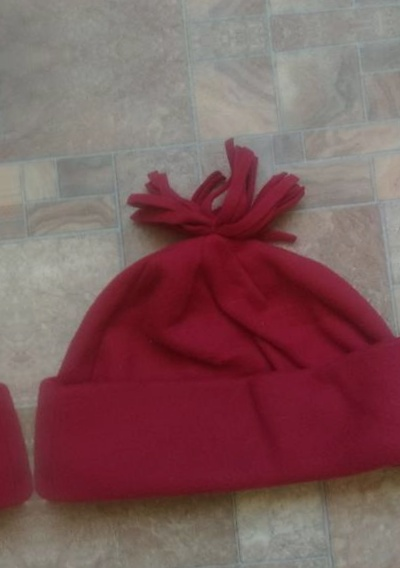Hat: (8, 140, 400, 517), (0, 182, 31, 559)
